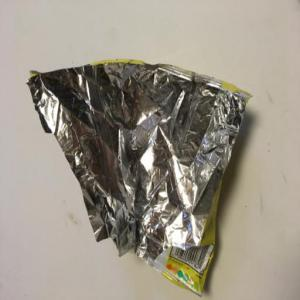Trash: (25, 59, 256, 298)
